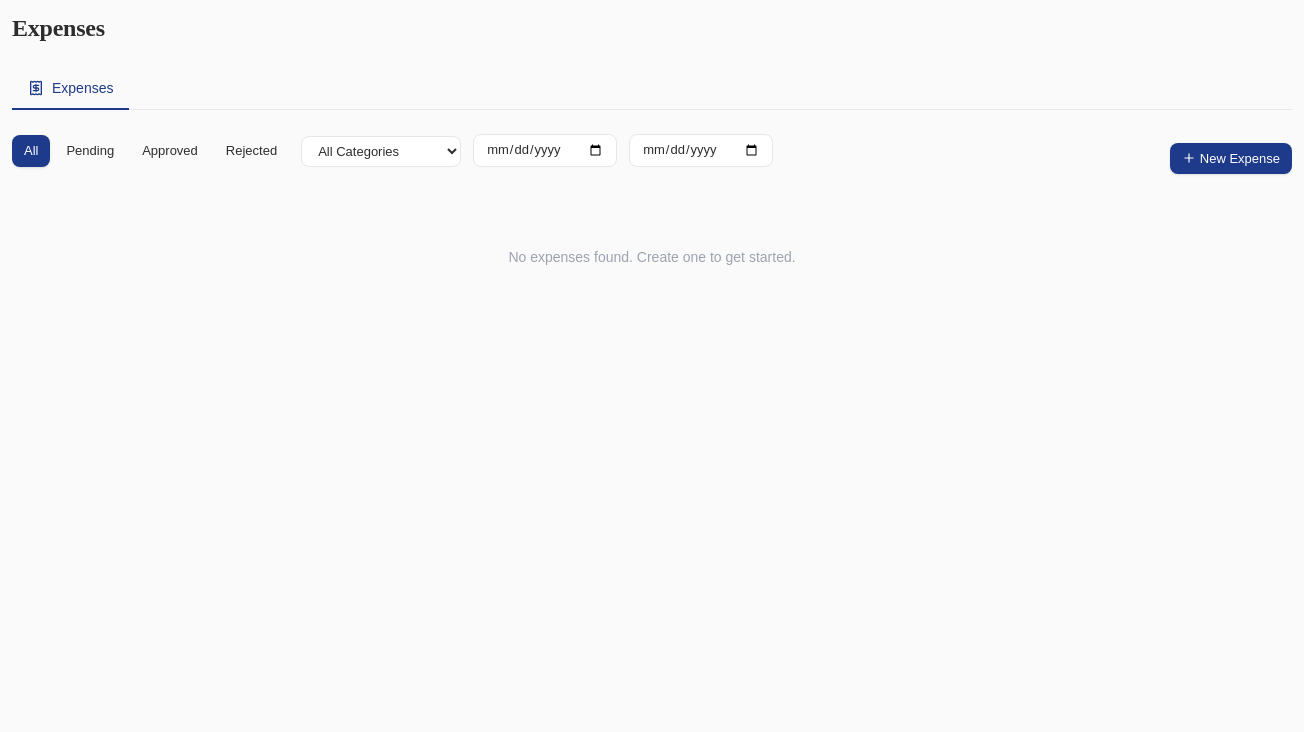
Test: ExpensesPage › toggles new expense form
What coordinates should you click on to do the following:
click the button "New Expense"
I would click on:
 (1231, 158)
Its box is [1170, 142, 1292, 174].
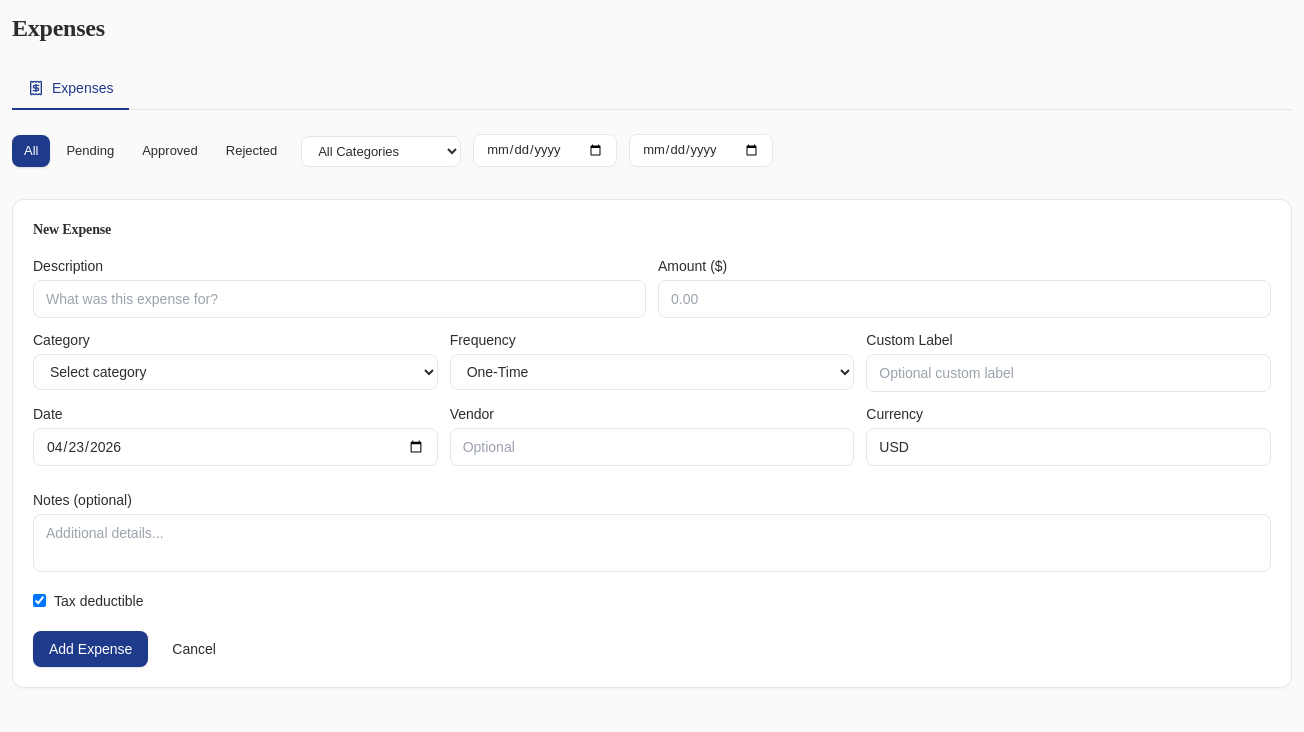
expect the field labelled "Description" is shown: met, box [33, 280, 646, 318]
expect the number field labelled "Amount ($)" is shown: met, box [658, 280, 1271, 318]
expect the dropdown labelled "Category" is shown: met, box [33, 354, 438, 390]
